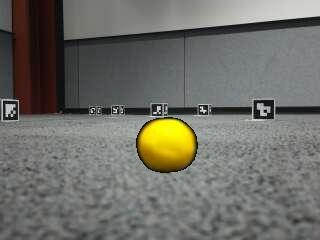lemon: (139, 119, 197, 173)
